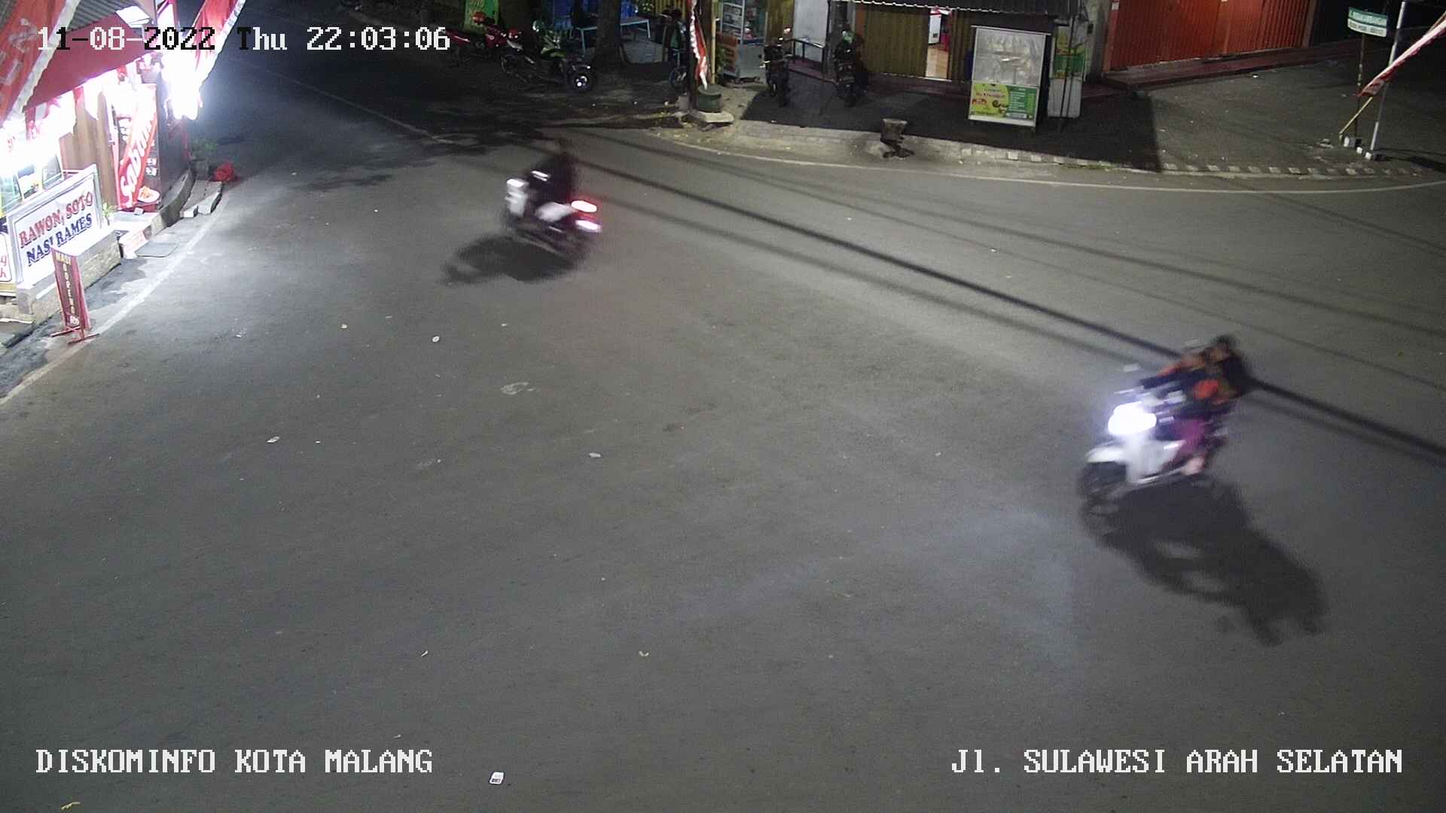without_helmet: (1078, 324, 1274, 518), (476, 127, 613, 267)
